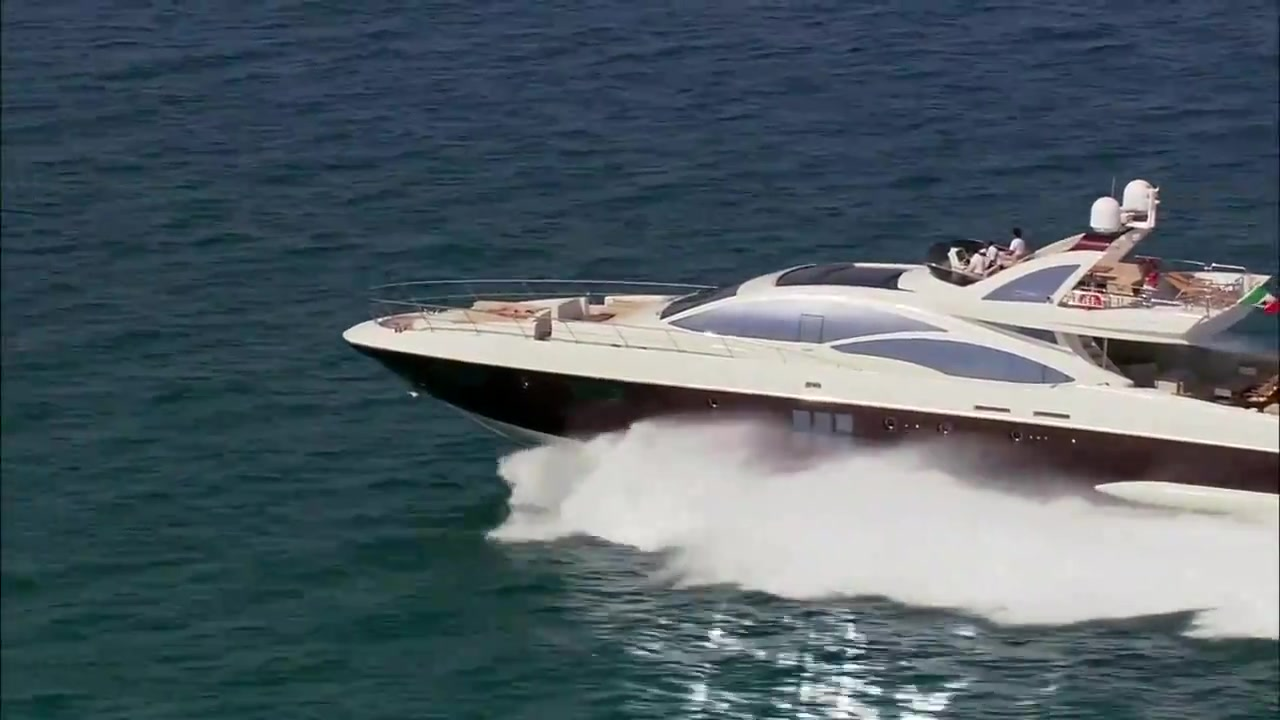boat: (337, 180, 1280, 504)
